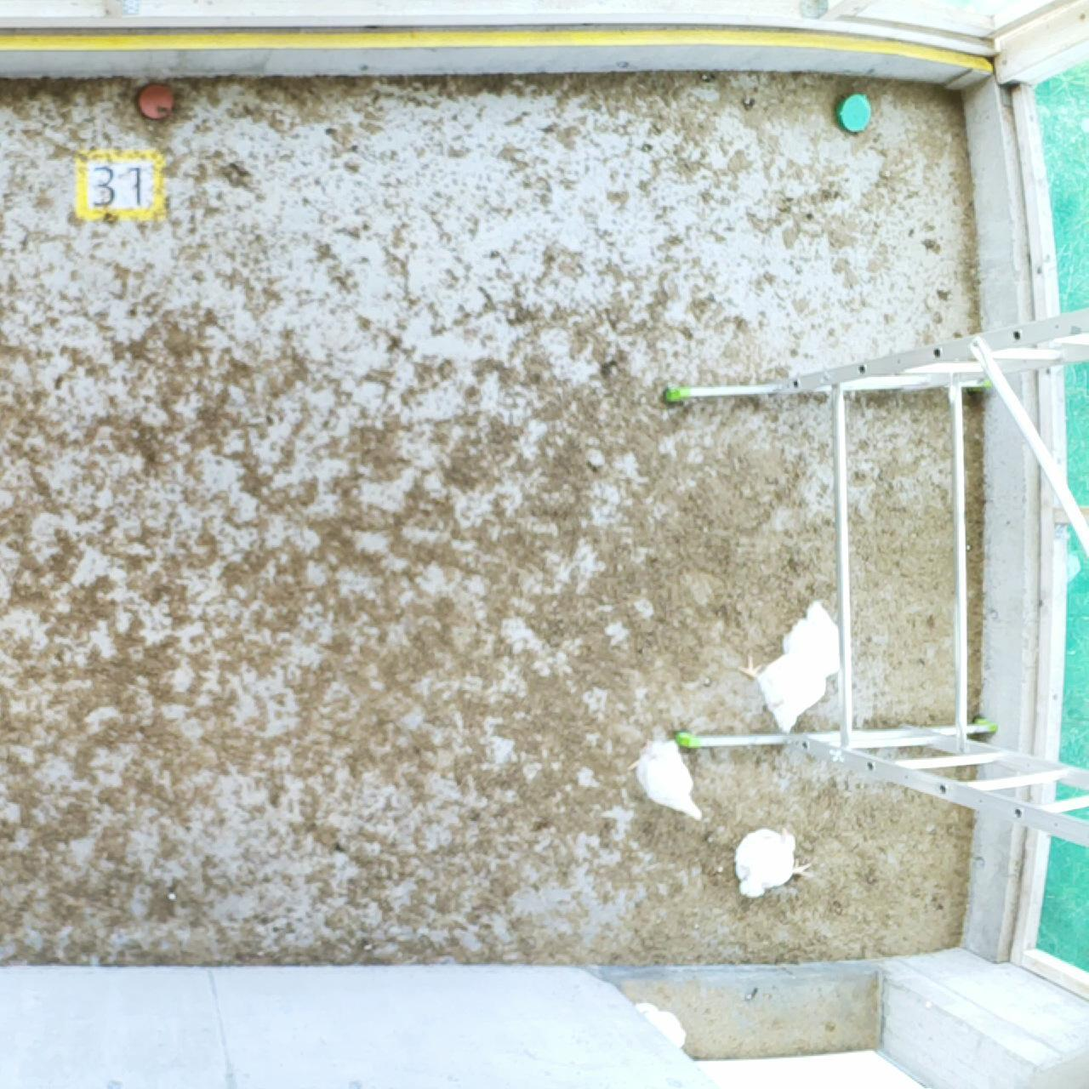chicken: (737, 648, 830, 734), (628, 730, 699, 822), (774, 593, 842, 680), (736, 824, 812, 901), (634, 994, 690, 1061)
